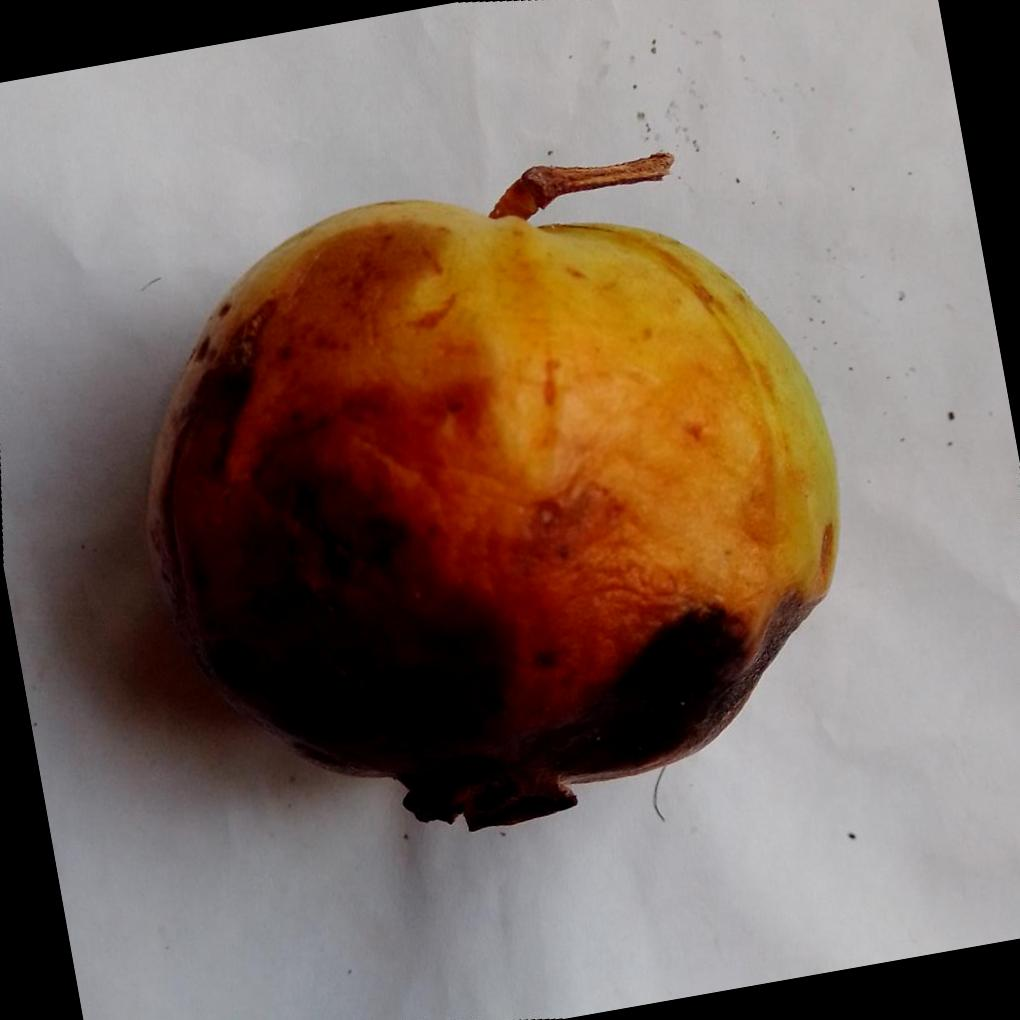FreshOrange: (137, 199, 839, 831)
